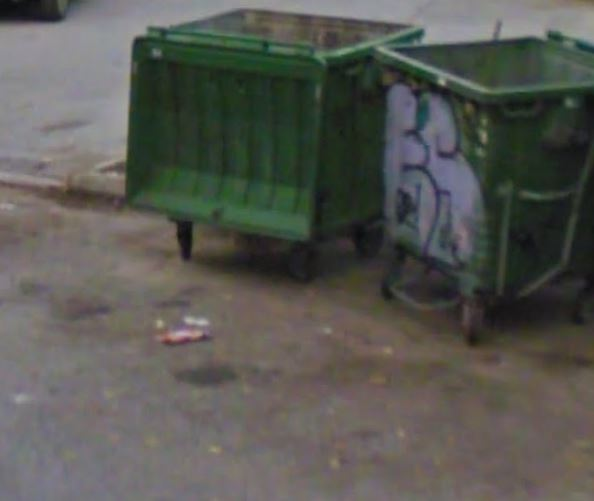trash: (150, 307, 215, 353)
